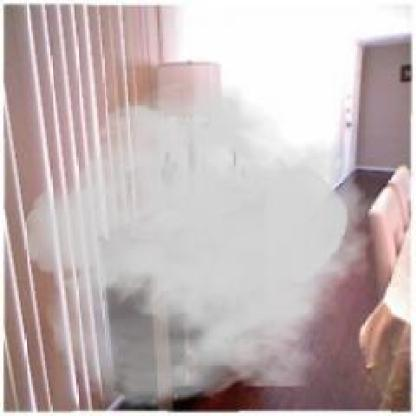Smoke: (22, 78, 386, 414)
